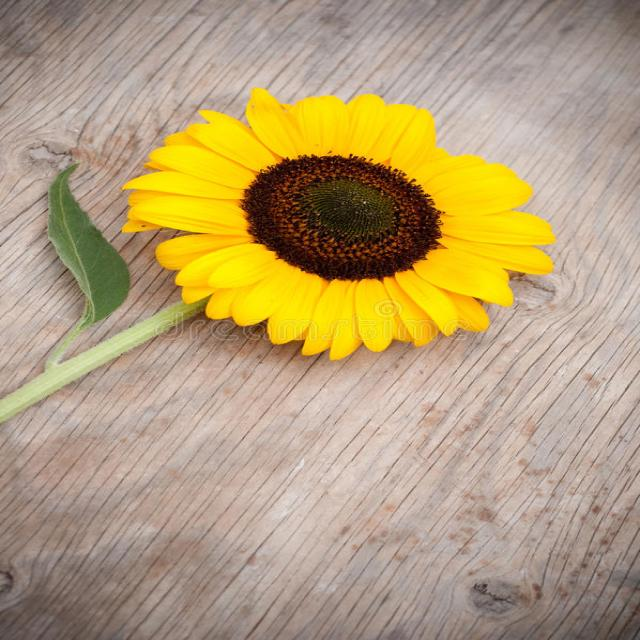sunflower: (122, 70, 588, 366)
